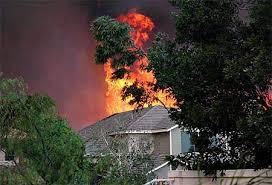fire: (101, 9, 179, 112)
